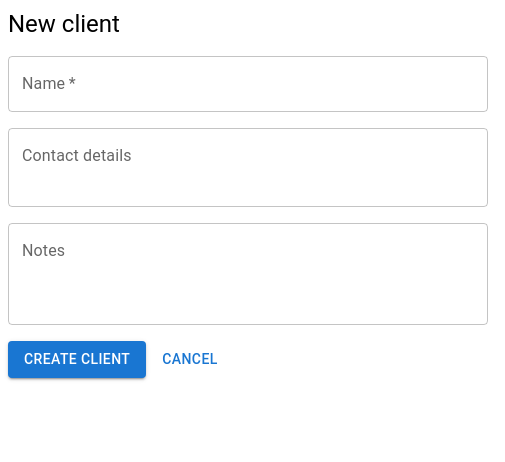
Test: ClientCreatePage › shows a general error when the backend fails without field errors
This screenshot has width=505, height=462.
Type "Acme Corp" into the field labelled "Name *" at (248, 84), box [8,56,488,112]
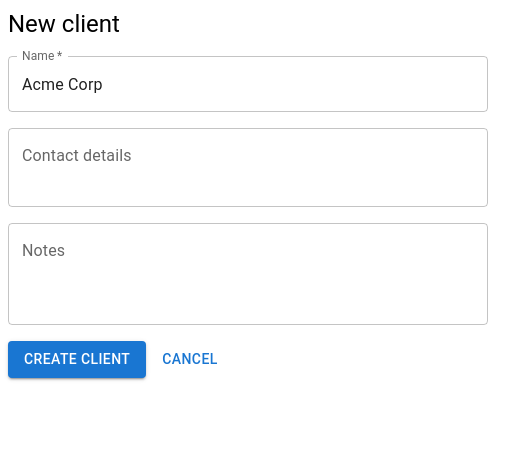
Click the button "Create client" at (77, 359), box [8,341,146,378]
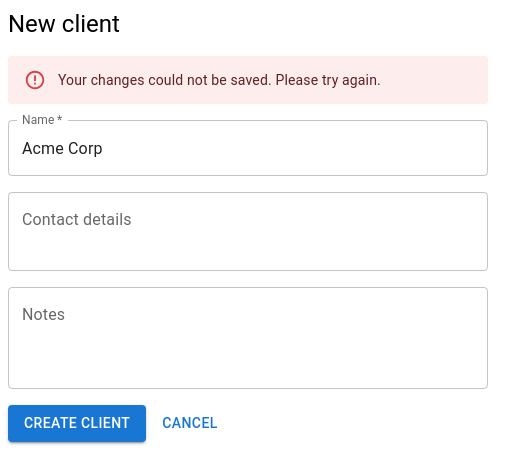
Result: the text "Your changes could not be saved. Please try again." is shown at [58,72,381,88]
